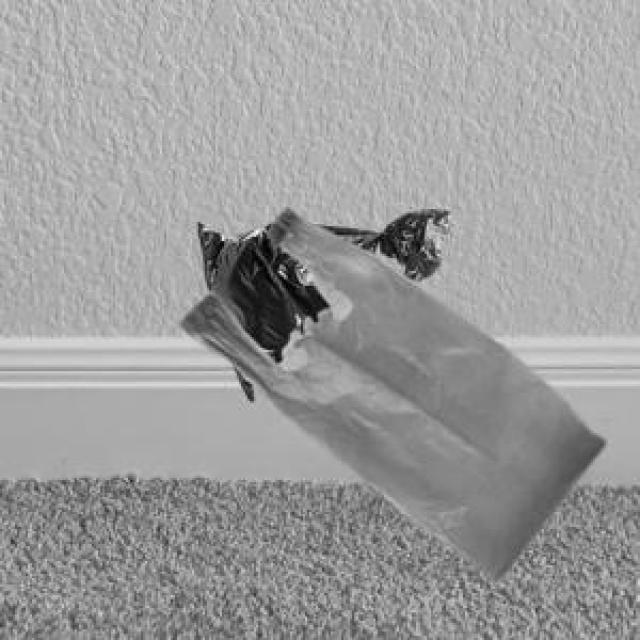miscellaneous trash: (194, 207, 448, 397)
